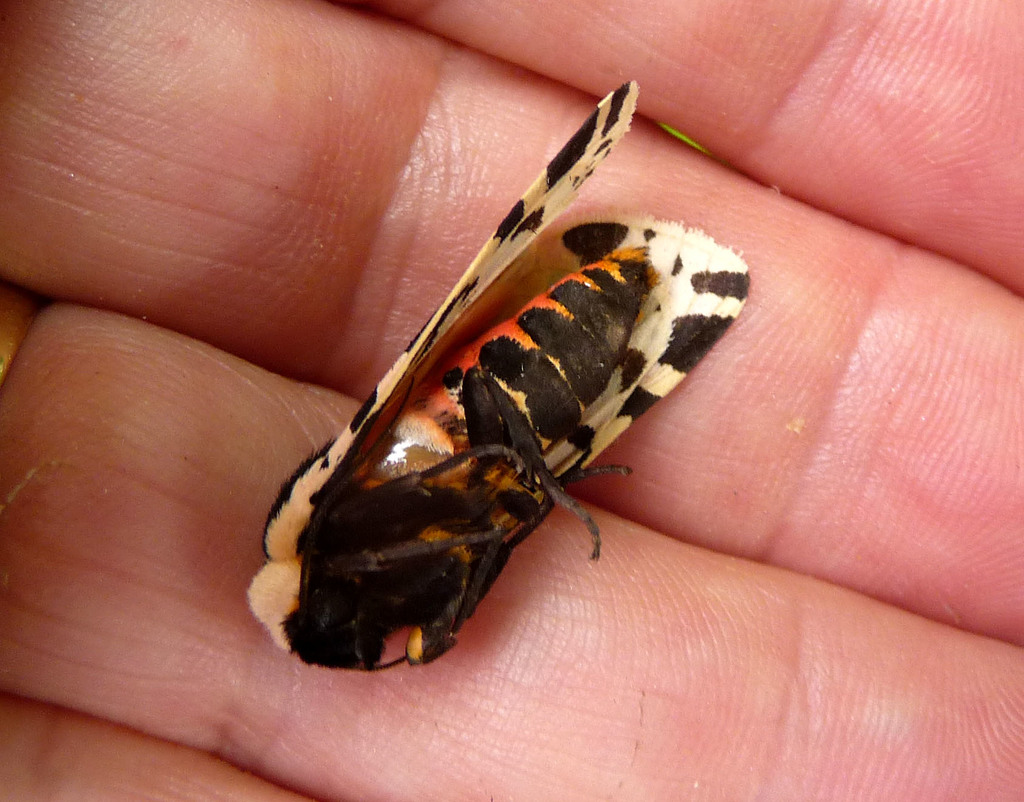Butterfly: (240, 141, 770, 715)
